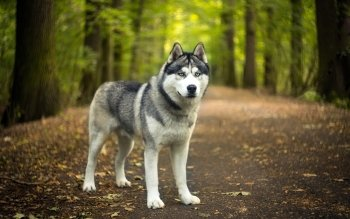husky: (77, 35, 229, 205)
